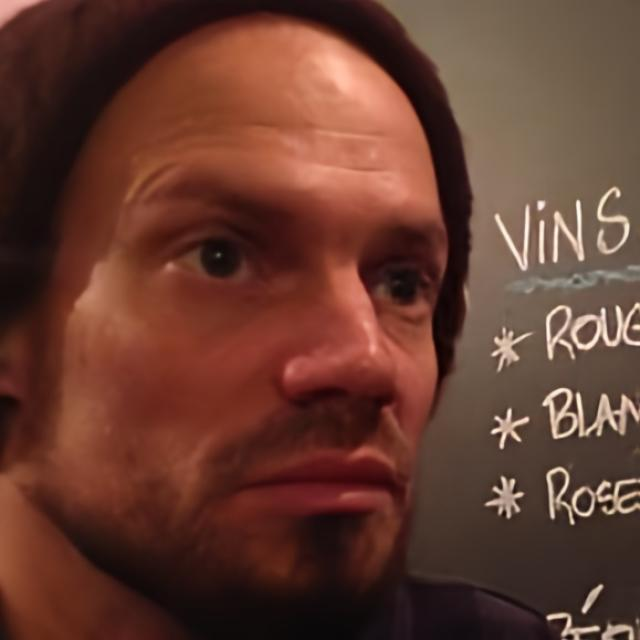neutral: (30, 15, 452, 628)
